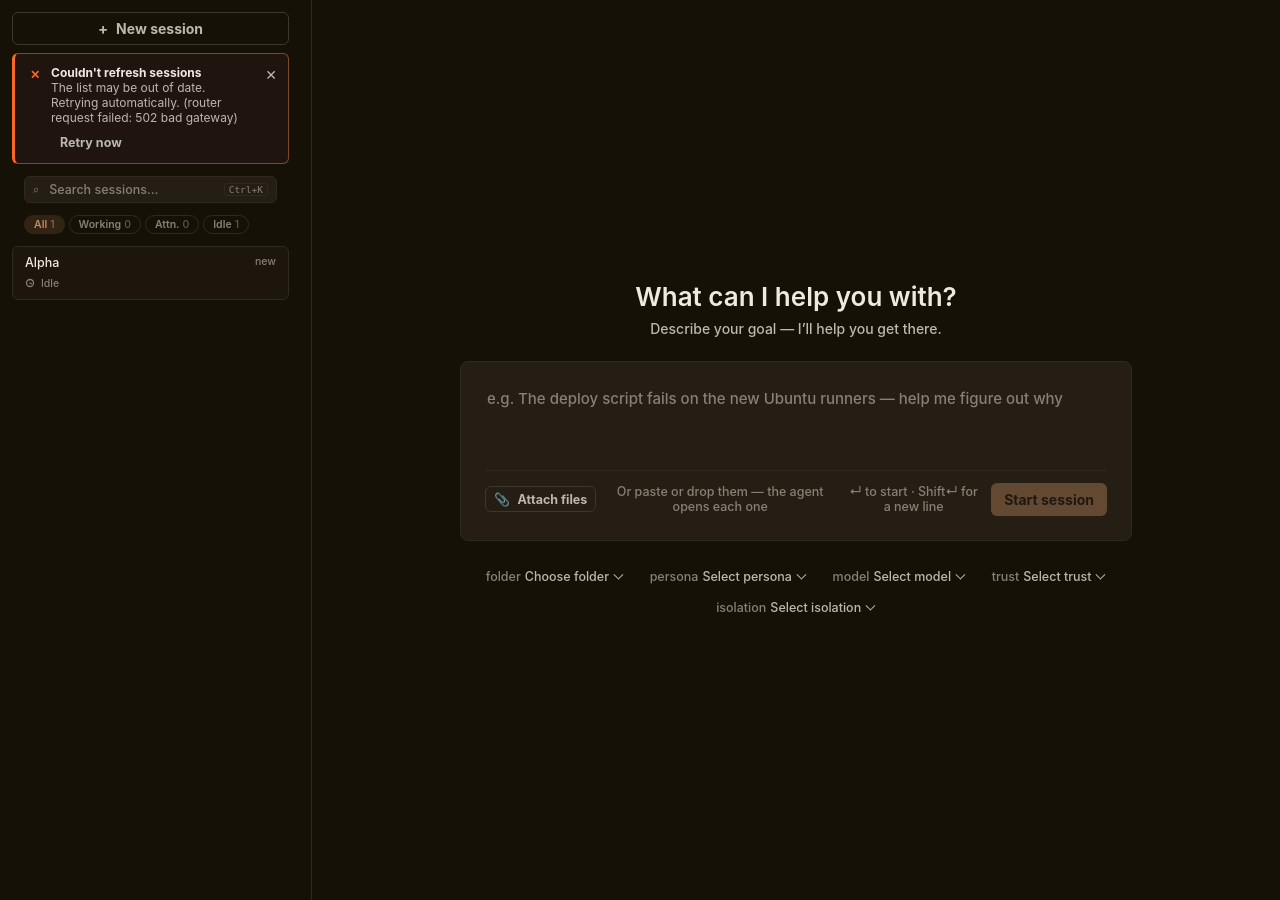
Scenario: SessionsSurface › a failed refresh over a loaded list says so and can be dismissed
Check: the text "Alpha" is shown, box [25,255,59,270]
Check: the text "Couldn't refresh sessions" is shown, box [51,65,202,80]
Click the button named "Dismiss".
click(271, 75)  # box [258,62,284,88]
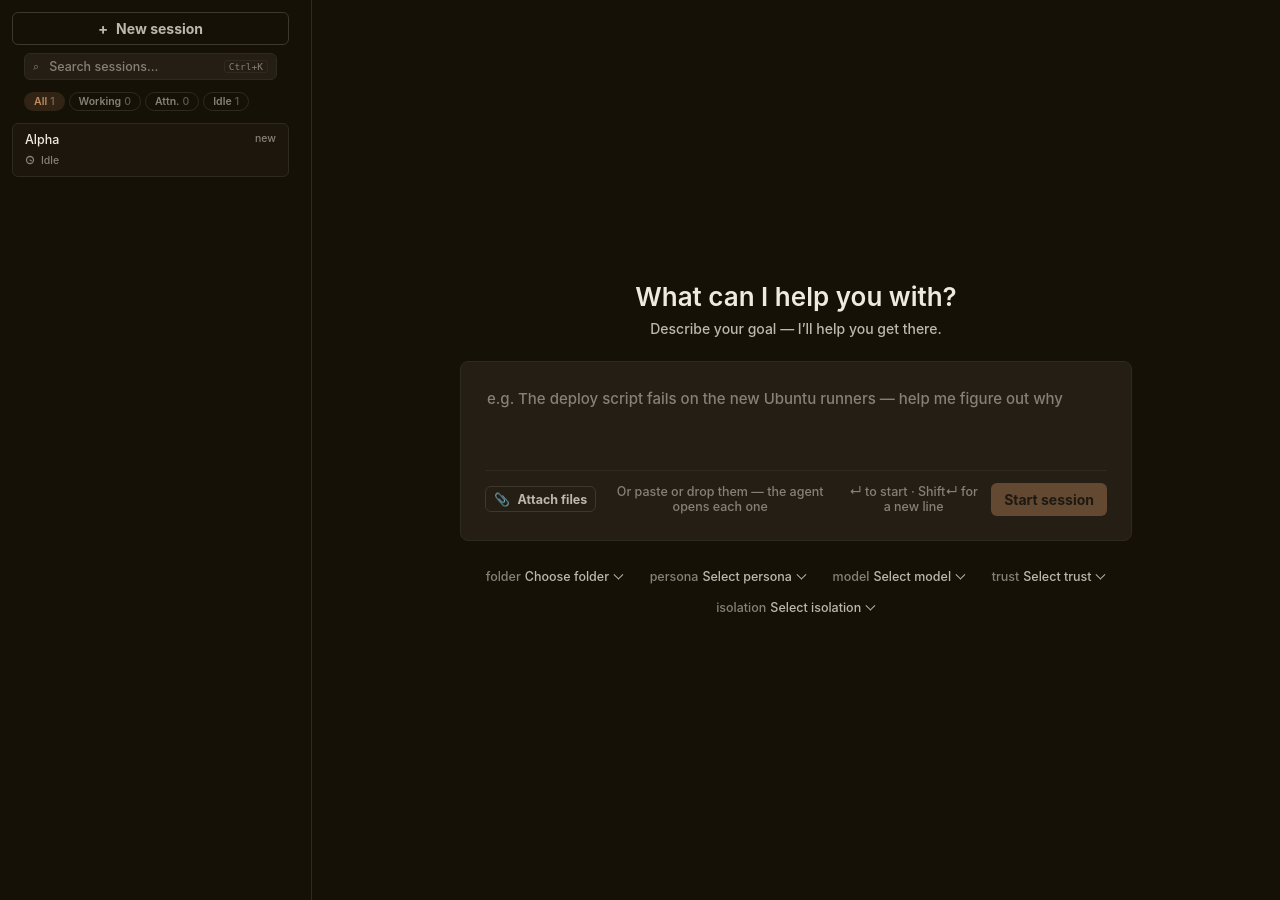
Check: the text "Alpha" is shown, box [25,132,59,147]
Check: the text "Couldn't refresh sessions" is gone
